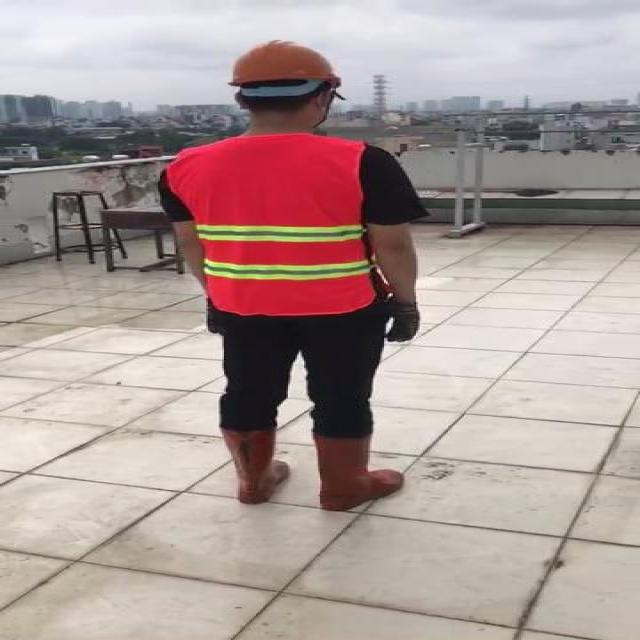boots: (314, 432, 402, 513), (220, 427, 290, 504)
hand_glove: (381, 301, 423, 344), (207, 301, 220, 333)
head_helmet: (222, 38, 345, 88)
person: (161, 36, 427, 514)
vest: (178, 135, 372, 316)
